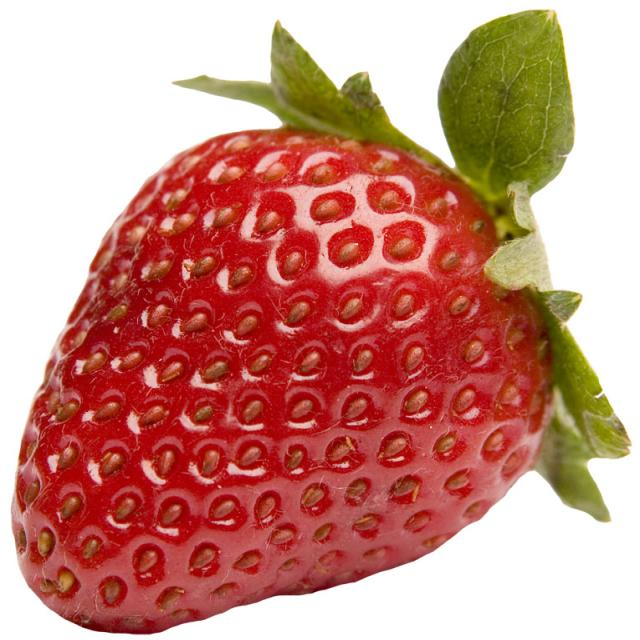strawberry: (0, 34, 609, 640)
